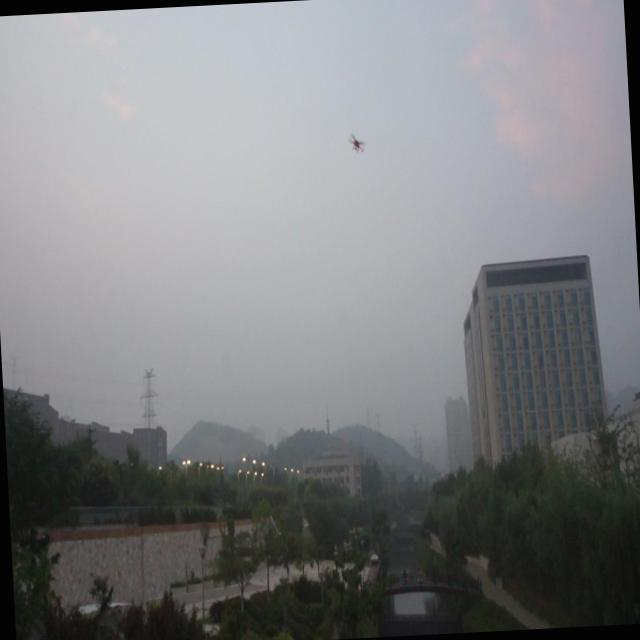drone: (346, 128, 368, 158)
